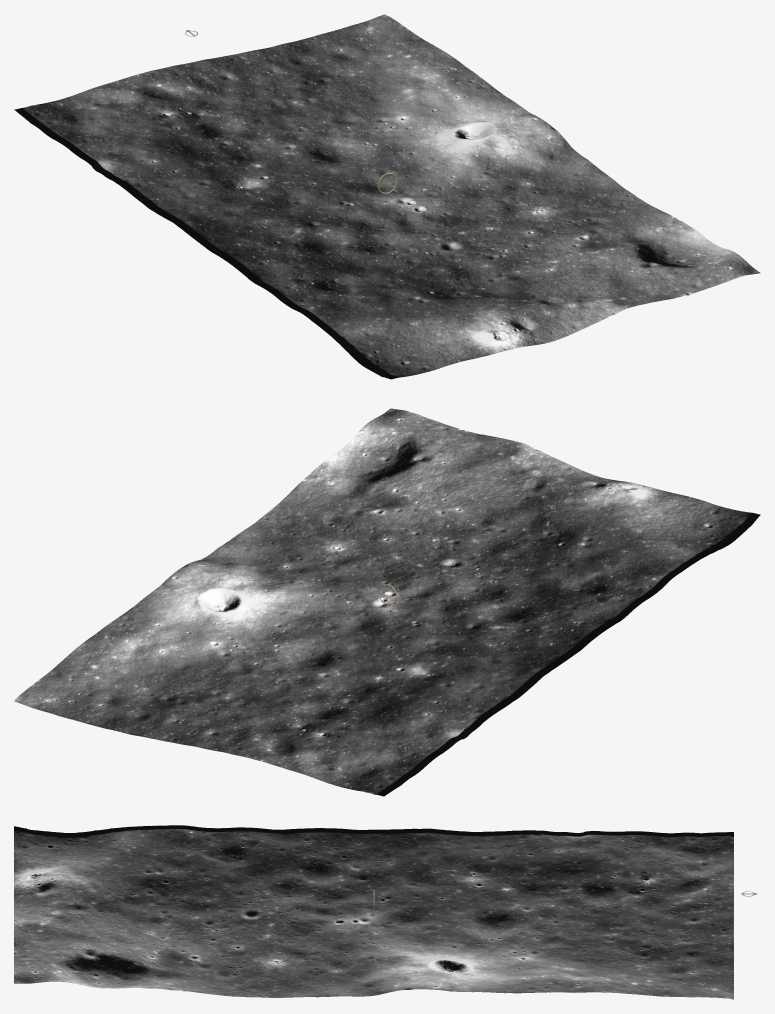
Rendered from Apollo14_Fra_Mauro_MKI.glb.
3 views of the same model, one above another, from view 1: azimuth 30°, elevation 25°; view 2: azimuth 150°, elevation 25°; view 3: azimuth 270°, elevation 25° (orthographic). The views are drawn at different scales.
Visible parts, largest first — view 1: Apollo14_Fra_Mauro; view 2: Apollo14_Fra_Mauro; view 3: Apollo14_Fra_Mauro.
Part boxes in pixels (left/top/right/bottom): Apollo14_Fra_Mauro: left=14, top=14, right=760, bottom=379; Apollo14_Fra_Mauro: left=14, top=408, right=760, bottom=796; Apollo14_Fra_Mauro: left=14, top=825, right=733, bottom=999.
Size of the model in its own units: 3400 by 285 by 6217.
3 materials, 2 textured.
